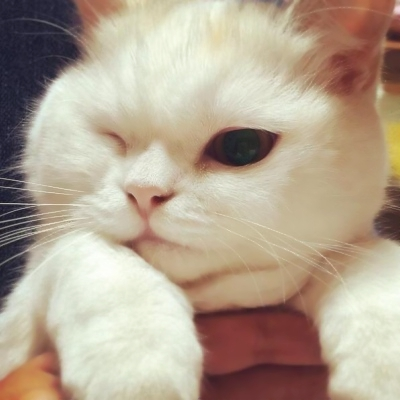cat: (37, 32, 349, 308)
